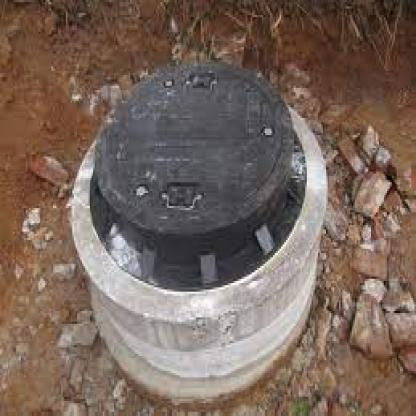closed manhole-not overflowing-: (66, 57, 326, 328)
